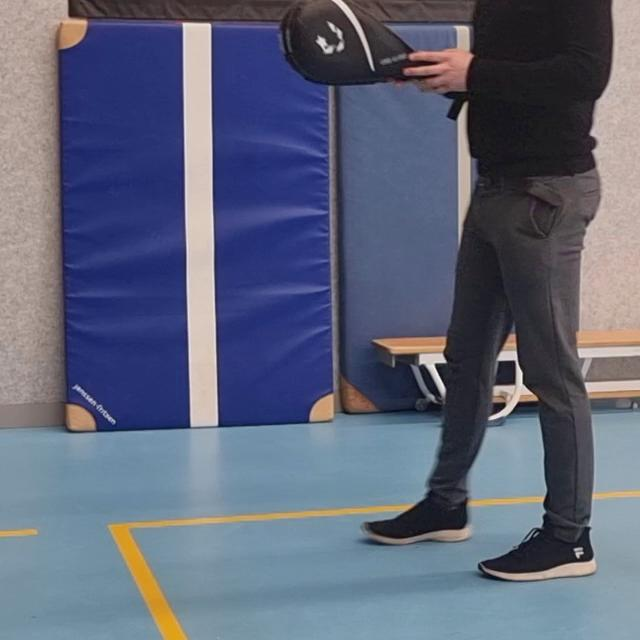paddle: (279, 0, 425, 84)
